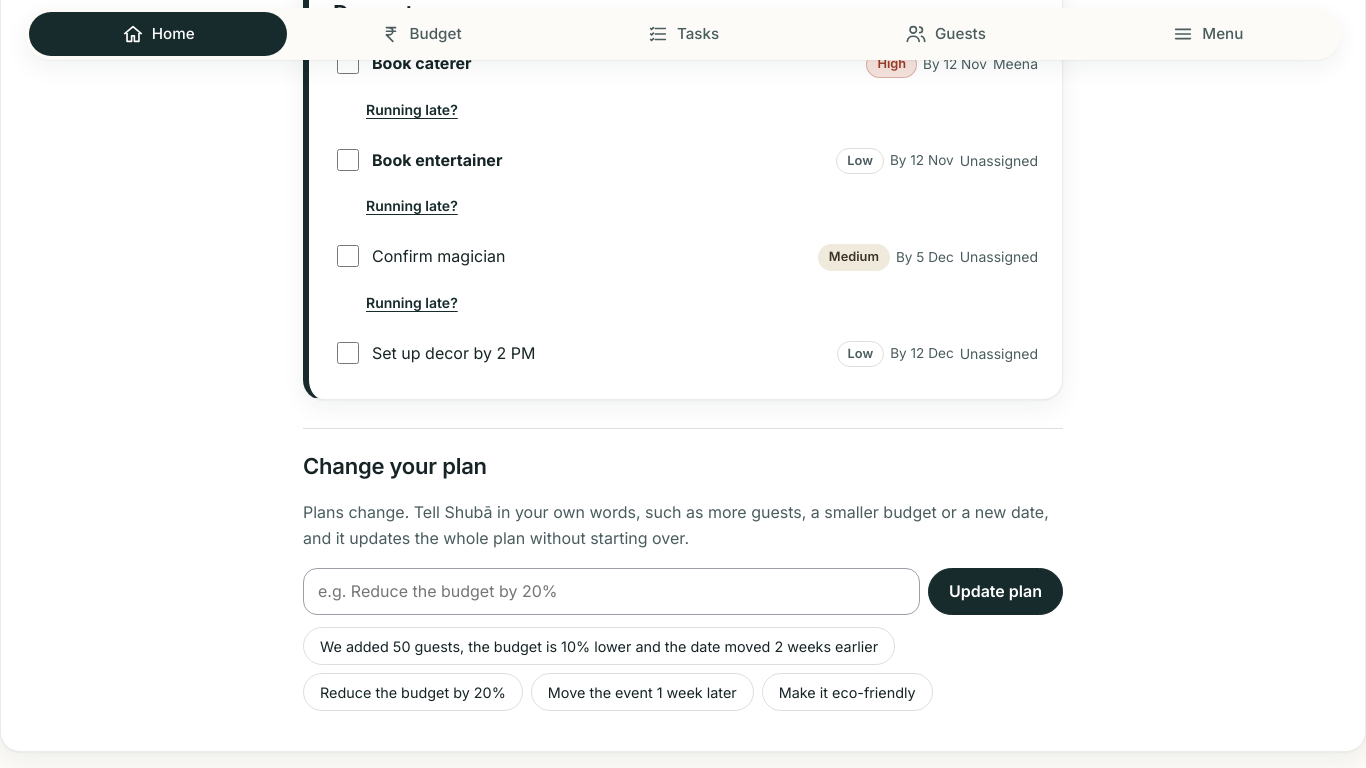
Test: PlanWorkspace › shows a friendly error when refining fails or the request is empty
The image size is (1366, 768).
(page scrolled)
Click the button "Update plan".
click(995, 592)  # box left=928, top=568, right=1063, bottom=615
(page scrolled)
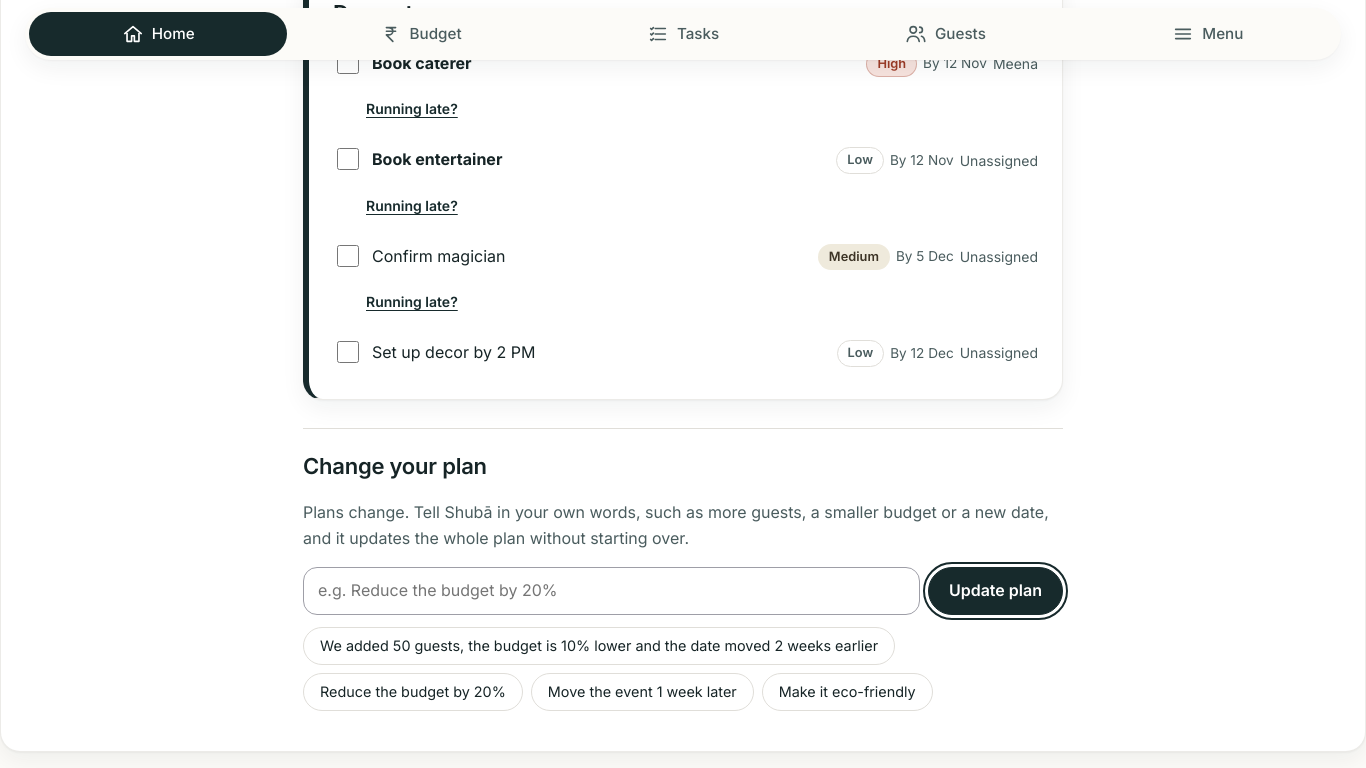
Type "Make it eco-friendly" into the field named "What would you like to change?".
click(611, 591); type("Make it eco-friendly")  # box left=303, top=567, right=920, bottom=615
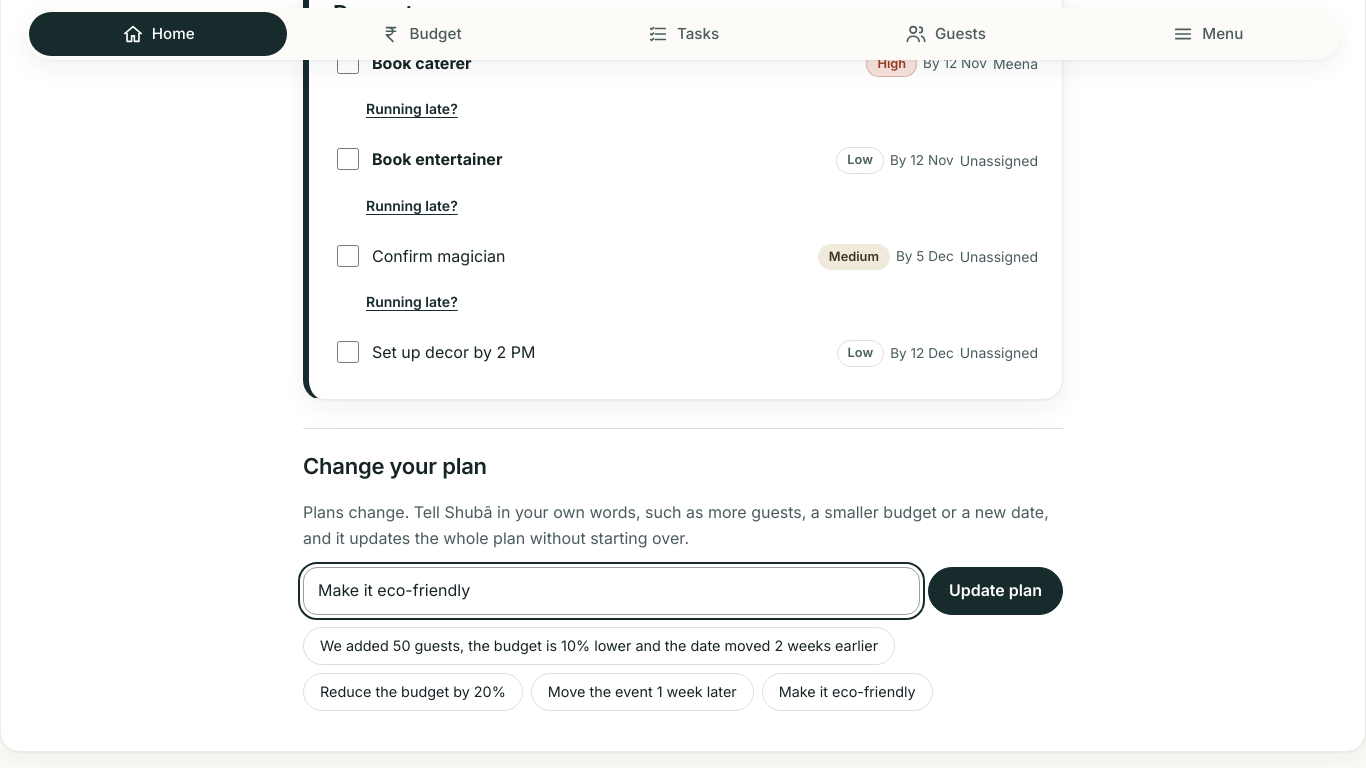
Click the button "Update plan".
click(995, 591)  # box left=928, top=567, right=1063, bottom=615
(page scrolled)
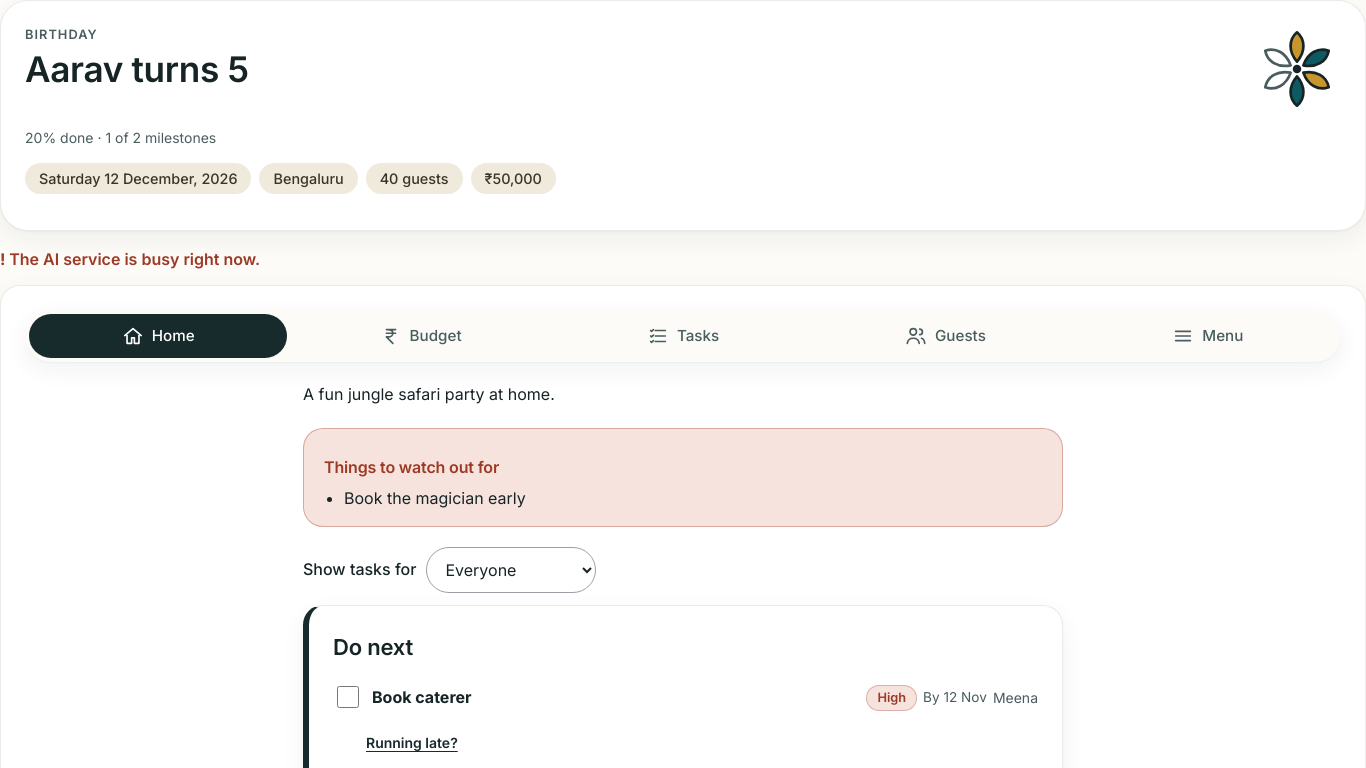
Expected: the text "The AI service is busy right now." is shown, left=9, top=249, right=260, bottom=269
